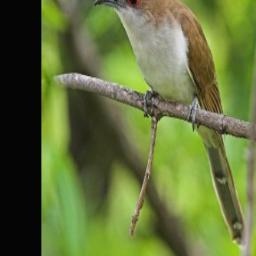Cuckoo: (93, 0, 245, 247)
